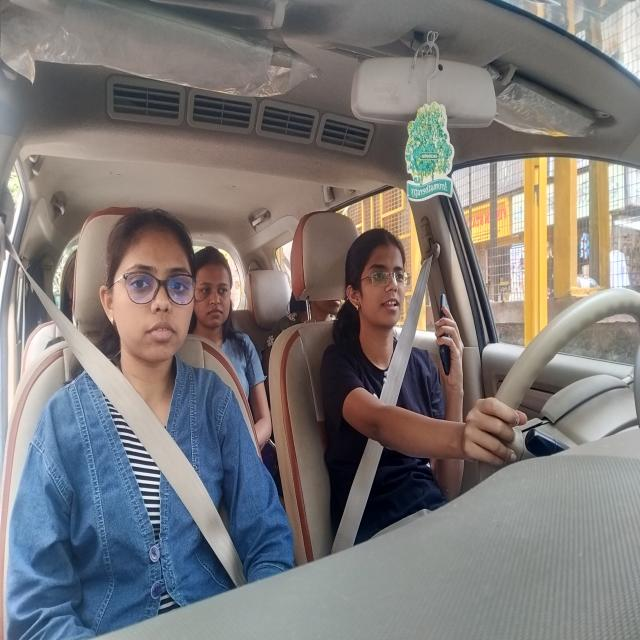mobile: (434, 292, 457, 374)
person: (99, 208, 197, 374), (347, 223, 407, 336), (192, 239, 238, 344)
